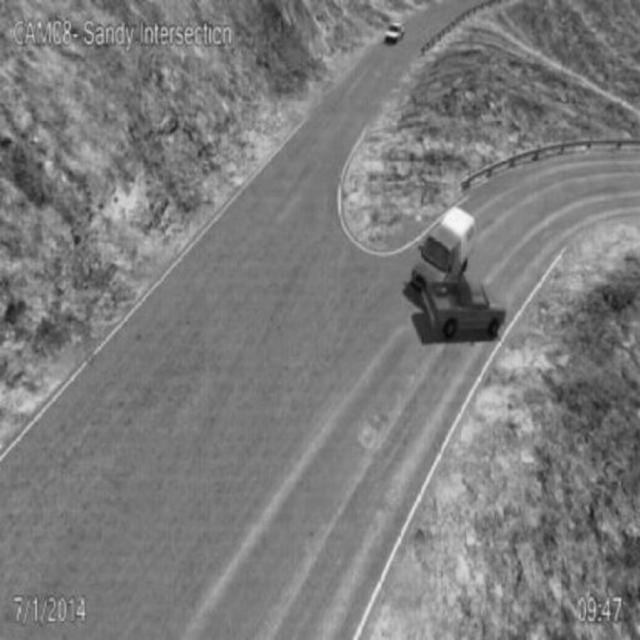accident: (410, 208, 504, 329)
